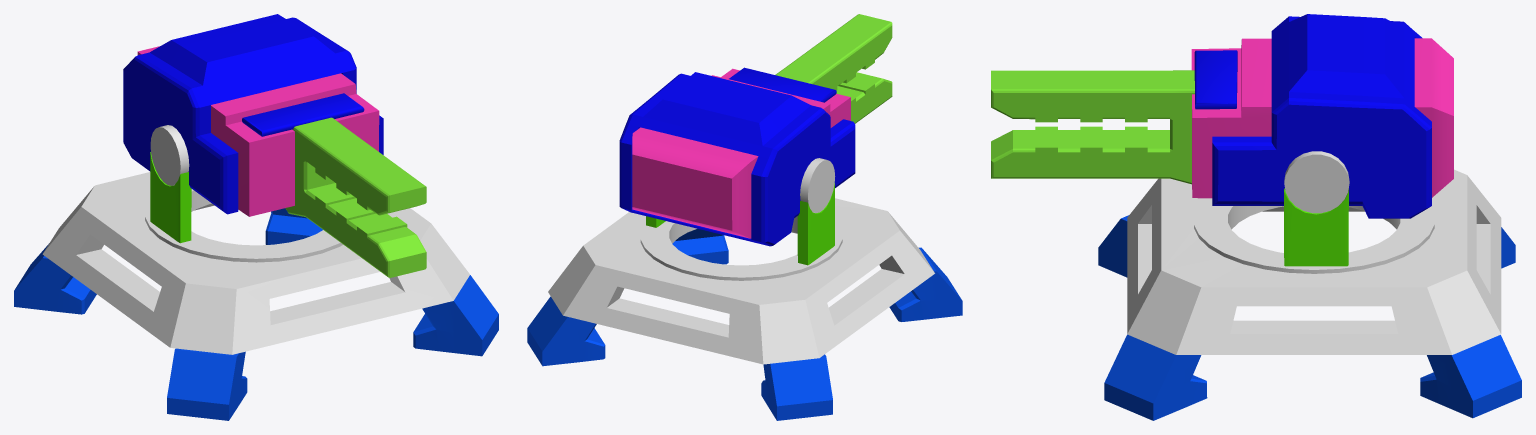
Rendered from SM_TurretTrap_V1.fbx.
3 views of the same model, side by side, from view 1: azimuth 30°, elevation 25°; view 2: azimuth 150°, elevation 25°; view 3: azimuth 270°, elevation 25° (orthographic). The views are drawn at different scales.
Parts seen in each view (by area): view 1: Base, HeadBase, Barrel, HeadMiddle, Legs004, Legs, MiddleCylinder, Legs003, HeadPanel, HingeBase, Legs002, hingeHead (+1 smaller); view 2: Base, HeadBase, HeadMiddle, Barrel, MiddleCylinder, Legs003, Legs002, Legs004, HingeBase, HeadPanel, Legs, hingeHead (+1 smaller); view 3: Base, HeadBase, Barrel, HeadMiddle, MiddleCylinder, Legs, Legs002, HingeBase002, hingeHead002, HeadPanel, Legs004.
Boxes of the visible parts, <box> form: Base: <box>42,172,469,354</box>; HeadBase: <box>123,14,383,214</box>; Barrel: <box>285,117,426,277</box>; HeadMiddle: <box>137,46,379,216</box>; Legs004: <box>167,348,247,420</box>; Legs: <box>413,275,498,356</box>; MiddleCylinder: <box>145,189,343,262</box>; Legs003: <box>14,243,96,314</box>; HeadPanel: <box>242,93,364,136</box>; HingeBase: <box>150,152,191,243</box>; Legs002: <box>265,208,322,244</box>; hingeHead: <box>158,125,189,185</box>; Base: <box>548,198,934,364</box>; HeadBase: <box>619,72,855,246</box>; HeadMiddle: <box>632,68,850,238</box>; Barrel: <box>775,14,892,123</box>; MiddleCylinder: <box>640,216,842,280</box>; Legs003: <box>761,354,832,420</box>; Legs002: <box>527,296,605,366</box>; Legs004: <box>889,247,962,321</box>; HingeBase: <box>797,183,834,265</box>; HeadPanel: <box>729,67,836,102</box>; Legs: <box>672,228,728,264</box>; hingeHead: <box>800,158,834,213</box>; Base: <box>1127,169,1501,354</box>; HeadBase: <box>1212,14,1431,218</box>; Barrel: <box>991,70,1194,184</box>; HeadMiddle: <box>1191,38,1453,198</box>; MiddleCylinder: <box>1194,198,1434,273</box>; Legs: <box>1104,334,1207,420</box>; Legs002: <box>1420,335,1521,418</box>; HingeBase002: <box>1284,188,1348,266</box>; hingeHead002: <box>1284,151,1349,213</box>; HeadPanel: <box>1194,50,1237,109</box>; Legs004: <box>1098,215,1128,277</box>.
Size of the model in its own units: 2.95 by 2.24 by 3.7.
